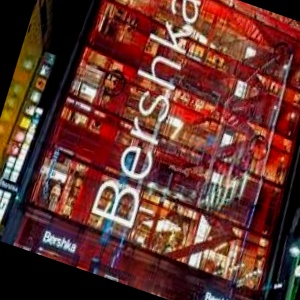bershka: (158, 0, 267, 18)
